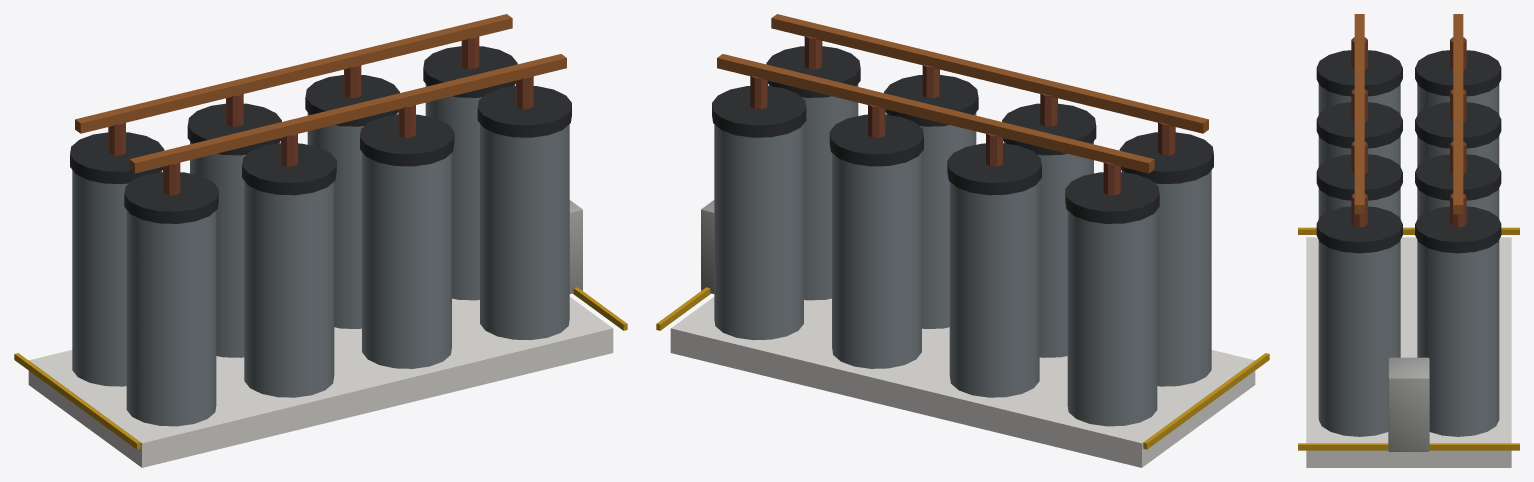
The model's file is capacitor-bank.glb.
3 renders of one model, left to right at view 1: azimuth 30°, elevation 25°; view 2: azimuth 150°, elevation 25°; view 3: azimuth 270°, elevation 25°, orthographic. The views are drawn at different scales.
Parts seen in each view (by area): view 1: Piece_lod0; view 2: Piece_lod0; view 3: Piece_lod0.
Boxes of the visible parts, <box> form: Piece_lod0: <box>14,14,627,467</box>; Piece_lod0: <box>656,14,1269,467</box>; Piece_lod0: <box>1298,14,1519,467</box>.
Size of what is drawn, in the model's own units: 12.65 by 6.82 by 5.4.
